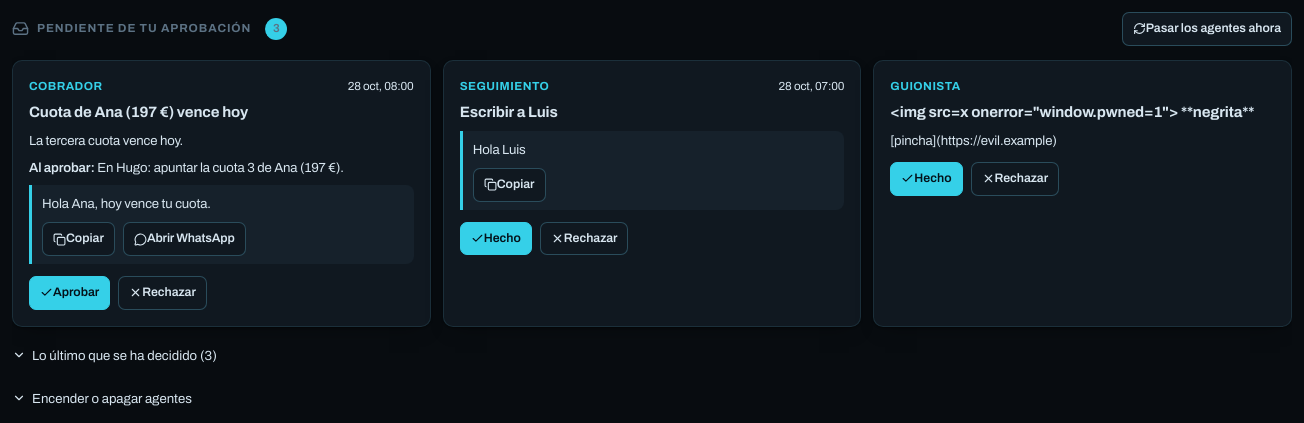
Test: Bandeja › copiar el mensaje lo deja en el portapapeles
Click the button "Copiar" next to "Abrir WhatsApp". click: (78, 239)
box: [42, 222, 115, 256]
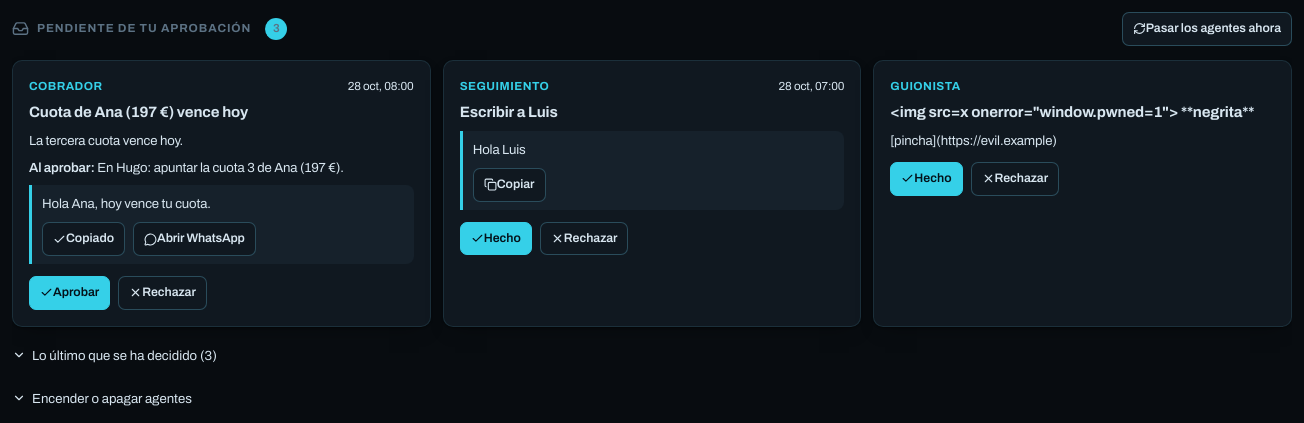
Check: the button "Copiado" is shown, box [42, 222, 125, 256]
Click the button "Copiar". click: (509, 185)
box: [473, 168, 546, 202]
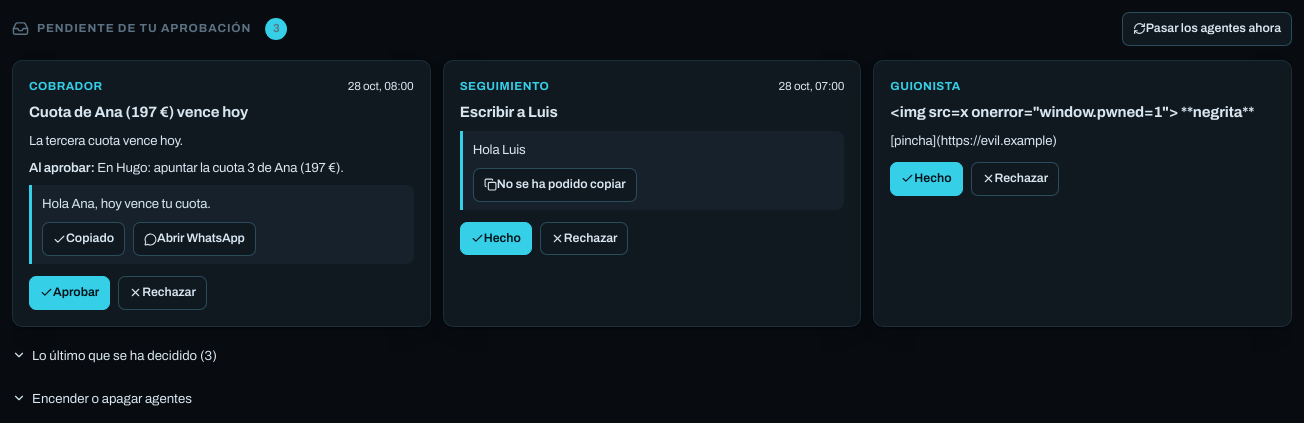
Check: the button "No se ha podido copiar" is shown, box [473, 168, 637, 202]
